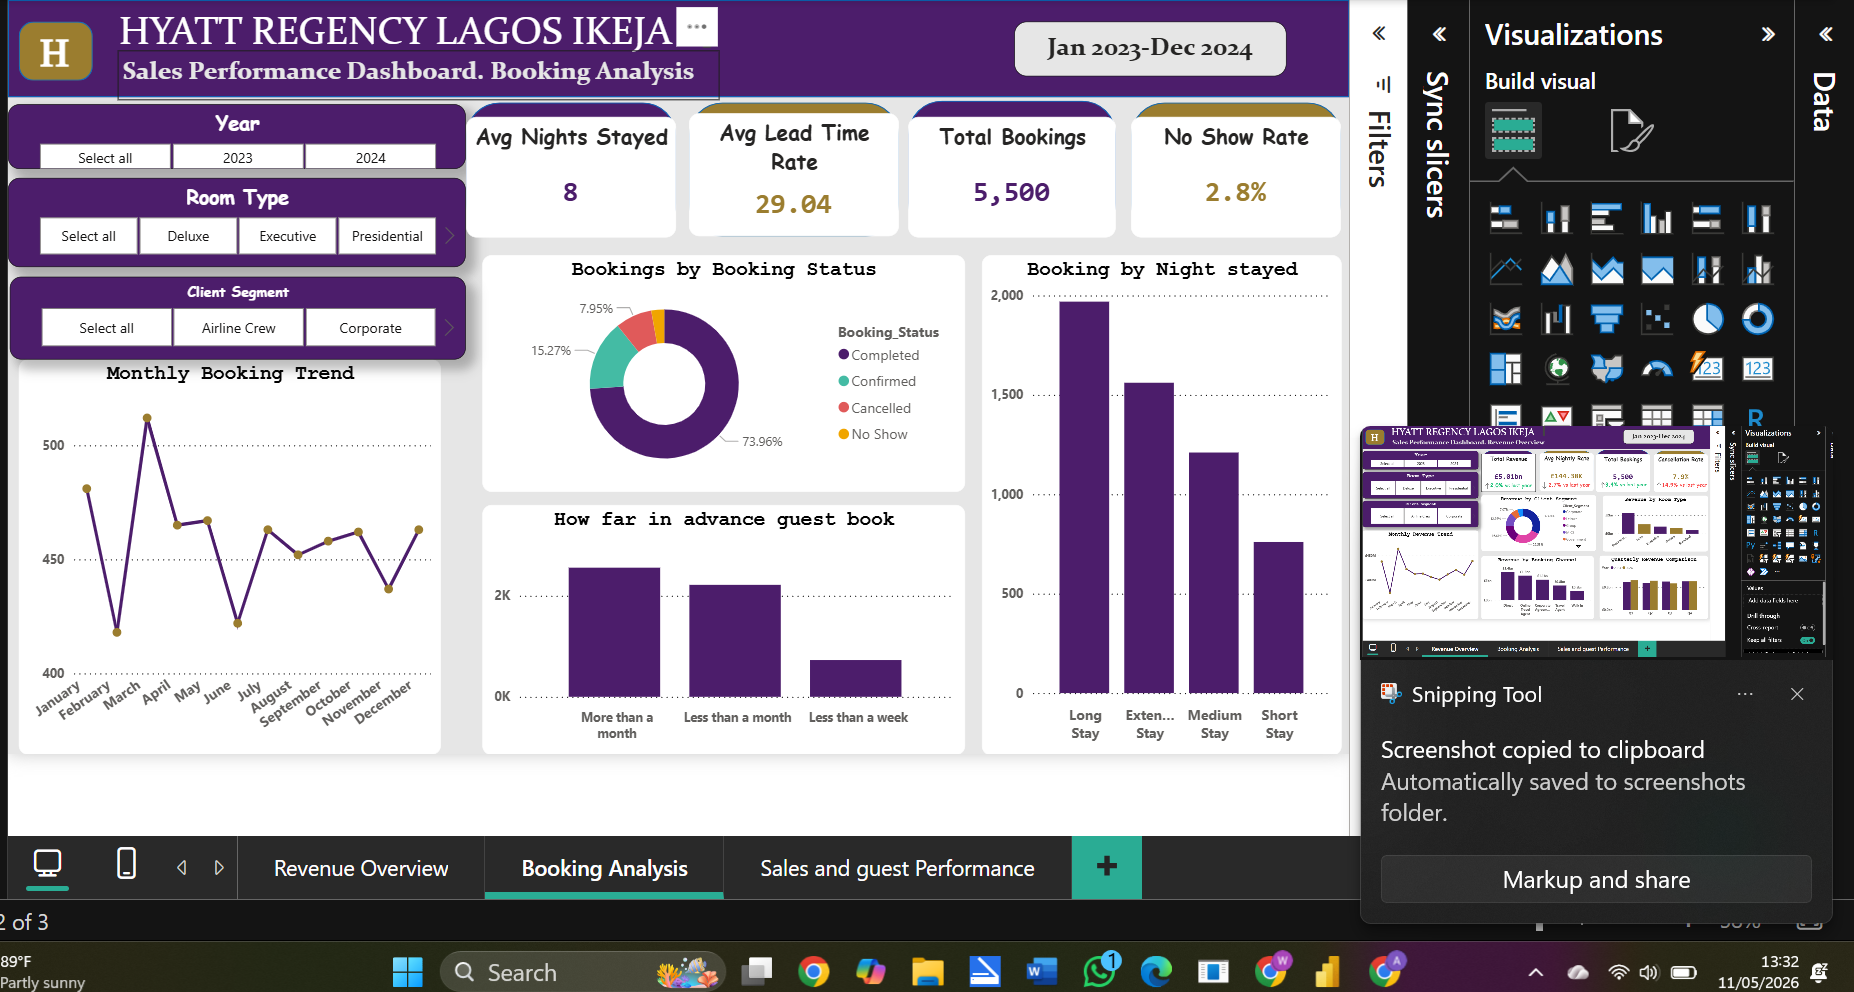

This screenshot's page, from the dashboard's own definition file:
{"tool":"powerbi","page":{"name":"Booking Analysis","canvas":[1280,720],"ordinal":1},"visuals":[{"type":"shape","box":[0,0,1280.3,92.7],"z":0},{"type":"slicer","title":"Year","fields":{"Values":["Hyatt_Ikeja_Hotel_Booking_Data.Year"]},"box":[0,100.2,437.1,61.8],"z":1000},{"type":"slicer","title":"Room Type","fields":{"Values":["Hyatt_Ikeja_Hotel_Booking_Data.Room_Type"]},"box":[0,170.6,437.1,85.3],"z":2000},{"type":"shape","box":[437.1,98.1,200.4,127.9],"z":3000},{"type":"shape","box":[1072.6,98.1,200.4,127.9],"z":4000},{"type":"shape","box":[859.3,96,198.3,130.1],"z":5000},{"type":"shape","box":[650.4,98.1,200.4,127.9],"z":6000},{"type":"card","title":"Avg Nights Stayed","fields":{"Values":["Measures (2).Average Night Stayed"]},"box":[437.1,110.9,200.4,115.1],"z":7000},{"type":"card","title":"Avg Lead Time Rate","fields":{"Values":["Measures (2).Average Lead Time Days"]},"box":[650.4,108.7,200.4,117.3],"z":8000},{"type":"card","title":"Total Bookings","fields":{"Values":["Measures (2).Total Booking"]},"box":[859.3,110.9,198.3,115.1],"z":9000},{"type":"card","title":"No Show Rate","fields":{"Values":["Measures (2).% No Show"]},"box":[1072.6,110.9,200.4,115.1],"z":10000},{"type":"shape","box":[10.1,20.2,70.6,56.5],"z":11000},{"type":"textbox","box":[26.2,20.2,46.4,66.5],"z":12000},{"type":"lineChart","title":"Monthly Booking Trend","fields":{"Y":["Measures (2).Total Booking"],"Category":["Hyatt_Ikeja_Hotel_Booking_Data.Month"]},"box":[10.7,343.3,403,377.4],"z":13000},{"type":"donutChart","title":"Bookings by Booking Status","fields":{"Category":["Hyatt_Ikeja_Hotel_Booking_Data.Booking_Status"],"Y":["Measures (2).Total Booking"]},"box":[452.1,243.1,460.6,226],"z":14000},{"type":"clusteredColumnChart","title":" Booking by Night stayed","fields":{"Y":["Measures (2).Total Booking"],"Category":["Hyatt_Ikeja_Hotel_Booking_Data.Night stayed band"]},"box":[929.7,243.1,343.3,477.6],"z":15000},{"type":"slicer","title":"Client Segment","fields":{"Values":["Hyatt_Ikeja_Hotel_Booking_Data.Client_Segment"]},"box":[2.1,264.4,435,78.9],"z":16000},{"type":"textbox","box":[100.8,2,574.6,52.4],"z":17000},{"type":"textbox","box":[104.8,48.4,574.6,48.4],"z":18000},{"type":"textbox","box":[959.7,20.2,260.1,52.4],"z":19000},{"type":"clusteredColumnChart","title":"How far in advance guest book","fields":{"Y":["Measures (2).Total Booking"],"Category":["Hyatt_Ikeja_Hotel_Booking_Data.How Far Away Band"]},"box":[452.1,481.9,460.6,238.8],"z":20000}]}

Visuals, with their boxes on the page's 1280x720 design canvas (x1, y1, x2, y2). These are canvas units, not pixel positions in the 1854x992 screenshot, which may show the page scaled, cropped or inside an application window:
shape: 0:0:1280:93
"Year" slicer: 0:100:437:162
"Room Type" slicer: 0:171:437:256
shape: 437:98:638:226
shape: 1073:98:1273:226
shape: 859:96:1058:226
shape: 650:98:851:226
"Avg Nights Stayed" card: 437:111:638:226
"Avg Lead Time Rate" card: 650:109:851:226
"Total Bookings" card: 859:111:1058:226
"No Show Rate" card: 1073:111:1273:226
shape: 10:20:81:77
textbox: 26:20:73:87
"Monthly Booking Trend" lineChart: 11:343:414:721
"Bookings by Booking Status" donutChart: 452:243:913:469
" Booking by Night stayed" clusteredColumnChart: 930:243:1273:721
"Client Segment" slicer: 2:264:437:343
textbox: 101:2:675:54
textbox: 105:48:679:97
textbox: 960:20:1220:73
"How far in advance guest book" clusteredColumnChart: 452:482:913:721
